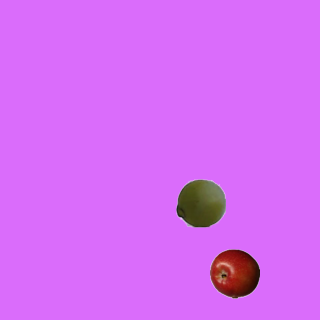Apple Braeburn: (209, 248, 259, 298)
Grape White 4: (175, 177, 225, 227)
